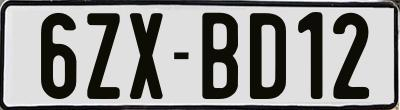1: (296, 10, 322, 98)
2: (333, 11, 369, 101)
6: (39, 11, 77, 99)
B: (199, 11, 237, 99)
D: (247, 11, 288, 102)
X: (130, 11, 168, 103)
Z: (86, 12, 122, 104)
